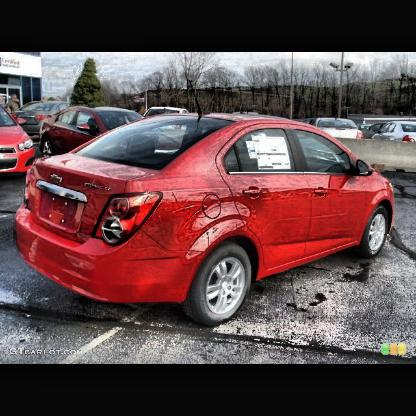Chevrolet Sonic Sedan 2012: (12, 76, 396, 327)
